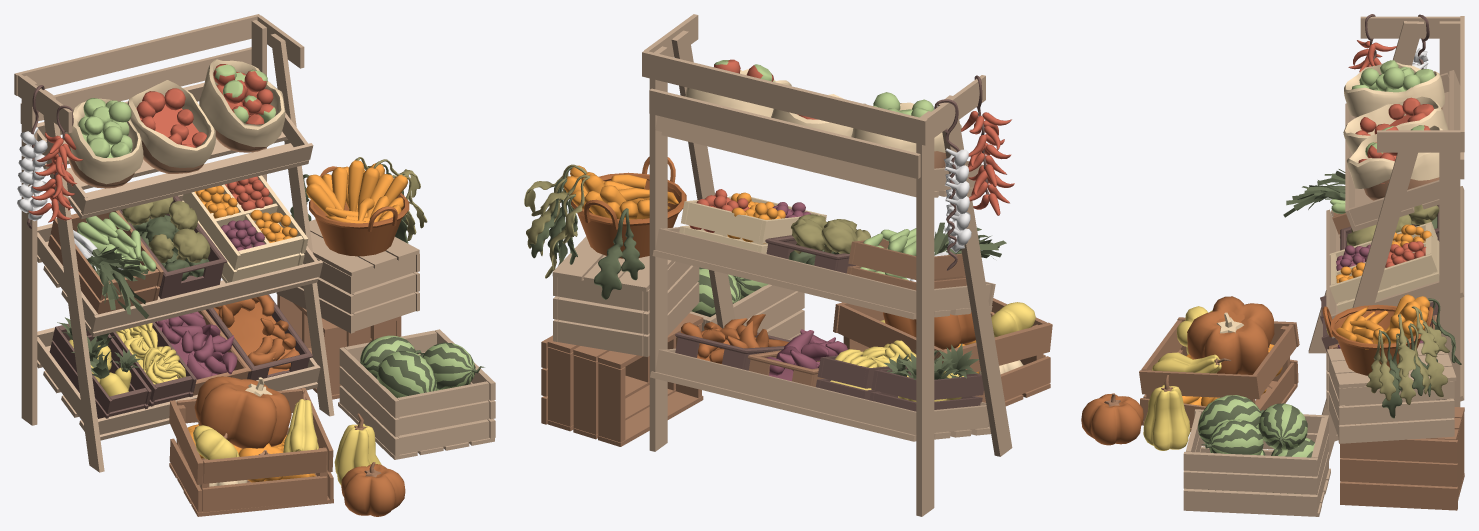
The model's file is market_joined.fbx.
3 views of the same model, side by side, from view 1: azimuth 30°, elevation 25°; view 2: azimuth 150°, elevation 25°; view 3: azimuth 270°, elevation 25° (orthographic). The views are drawn at different scales.
Visible parts, largest first — view 1: polySurface92, pCube264, polySurface143, pCone2, polySurface1, polySurface41, polySurface90, pCylinder16, polySurface67, polySurface68, pCube127, pCube199 (+8 smaller); view 2: polySurface92, pCone2, polySurface37, polySurface41, pCube264, polySurface1, polySurface90, polySurface66, polySurface143, pCube199, pCylinder16, polySurface70 (+6 smaller); view 3: polySurface92, polySurface143, pCube264, pCone2, polySurface37, polySurface41, polySurface1, pCube127, polySurface67, polySurface68, pCylinder10, pSphere9 (+3 smaller).
Boxes of the visible parts, x1=… form: polySurface92: x1=14, y1=14, x2=334, y2=472; pCube264: x1=169, y1=376, x2=333, y2=516; polySurface143: x1=338, y1=329, x2=495, y2=459; pCone2: x1=290, y1=157, x2=427, y2=256; polySurface1: x1=182, y1=175, x2=308, y2=283; polySurface41: x1=276, y1=219, x2=419, y2=333; polySurface90: x1=48, y1=210, x2=163, y2=318; pCylinder16: x1=119, y1=196, x2=227, y2=298; polySurface67: x1=199, y1=59, x2=285, y2=152; polySurface68: x1=127, y1=80, x2=215, y2=173; pCube127: x1=66, y1=98, x2=143, y2=188; pCube199: x1=206, y1=294, x2=313, y2=380; polySurface92: x1=642, y1=14, x2=1012, y2=516; pCone2: x1=524, y1=156, x2=686, y2=299; polySurface37: x1=541, y1=313, x2=703, y2=446; polySurface41: x1=552, y1=236, x2=699, y2=356; pCube264: x1=833, y1=298, x2=1052, y2=406; polySurface1: x1=679, y1=189, x2=826, y2=253; polySurface90: x1=846, y1=222, x2=1006, y2=290; polySurface66: x1=869, y1=343, x2=983, y2=411; polySurface143: x1=689, y1=267, x2=804, y2=340; pCube199: x1=675, y1=314, x2=790, y2=370; pCylinder16: x1=765, y1=214, x2=870, y2=273; polySurface70: x1=816, y1=340, x2=916, y2=399; polySurface92: x1=1308, y1=16, x2=1464, y2=460; polySurface143: x1=1183, y1=395, x2=1330, y2=516; pCube264: x1=1139, y1=296, x2=1299, y2=431; pCone2: x1=1322, y1=294, x2=1461, y2=418; polySurface37: x1=1340, y1=407, x2=1464, y2=510; polySurface41: x1=1326, y1=343, x2=1456, y2=443; polySurface1: x1=1329, y1=222, x2=1439, y2=312; pCube127: x1=1344, y1=60, x2=1444, y2=116; polySurface67: x1=1346, y1=125, x2=1442, y2=200; polySurface68: x1=1343, y1=96, x2=1448, y2=154; pCylinder10: x1=1081, y1=393, x2=1143, y2=445; pSphere9: x1=1143, y1=375, x2=1190, y2=450.
Bounding box in the file's own units: 22.64 × 18.77 × 19.14.
